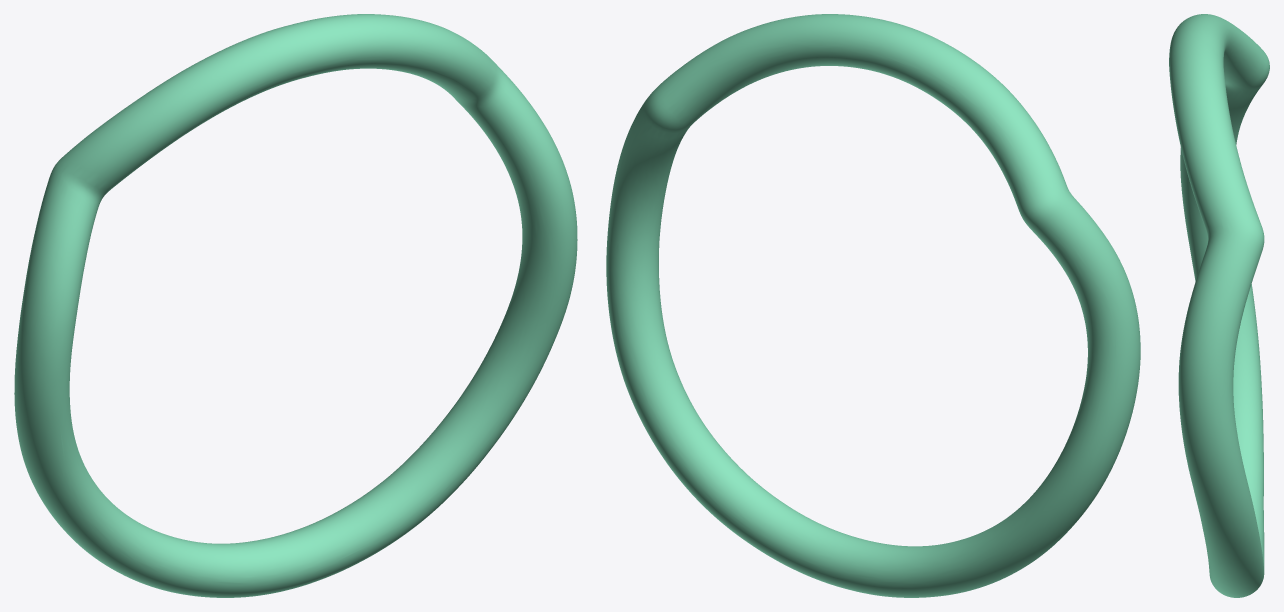
The picture shows the model from 3 angles, left to right: view 1: azimuth 30°, elevation 25°; view 2: azimuth 150°, elevation 25°; view 3: azimuth 270°, elevation 25°; orthographic projection. The views are drawn at different scales.
Parts seen in each view (by area): view 1: Metal03; view 2: Metal03; view 3: Metal03.
Part boxes in pixels (x1,y1,x2,y2): Metal03: (14, 14, 577, 597); Metal03: (606, 14, 1140, 597); Metal03: (1169, 14, 1269, 597).
Size of the model in its own units: 20.84 by 20.84 by 3.6.
